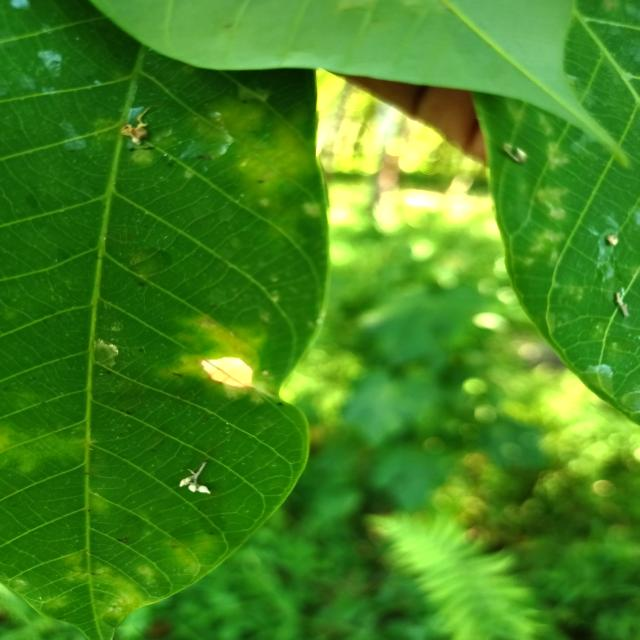Leaf-Blight: (200, 357, 253, 388)
